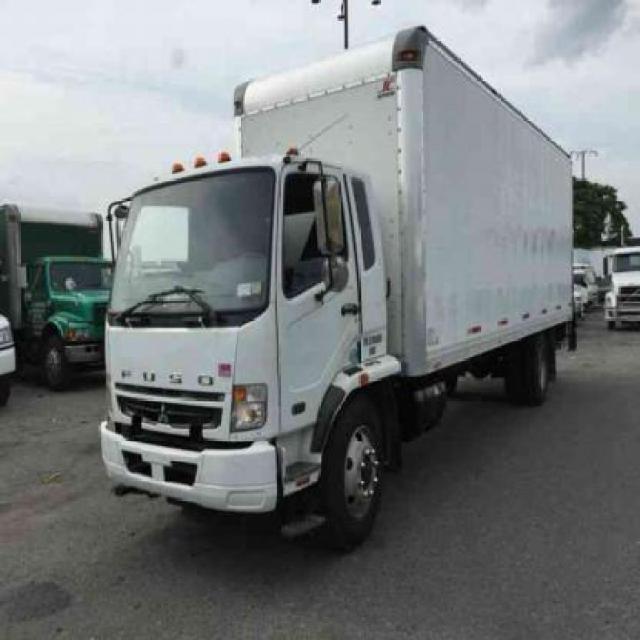truck: (98, 26, 573, 544)
